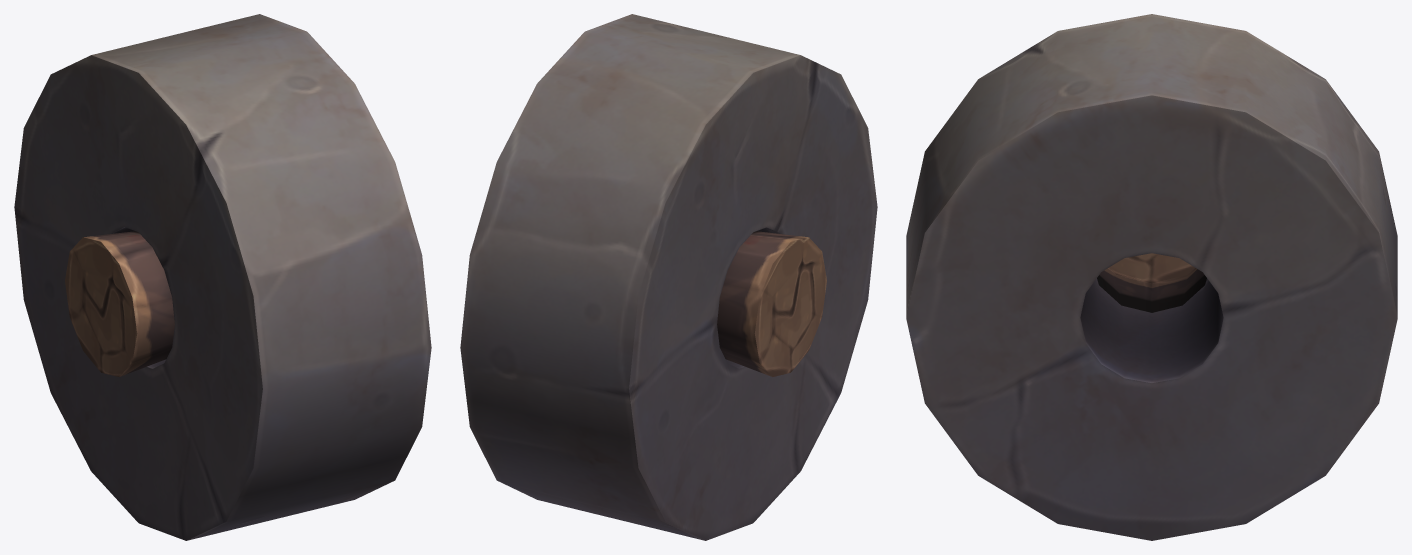
File: wm_wheel_stone.fbx
The picture shows the model from 3 angles, left to right: view 1: azimuth 30°, elevation 25°; view 2: azimuth 150°, elevation 25°; view 3: azimuth 270°, elevation 25°; orthographic projection.
Parts seen in each view (by area): view 1: wm_wheel_stone; view 2: wm_wheel_stone; view 3: wm_wheel_stone.
Part boxes in pixels (<box>): wm_wheel_stone: <box>14,14,431,540</box>; wm_wheel_stone: <box>460,14,877,540</box>; wm_wheel_stone: <box>906,14,1397,540</box>.
Bounding box in the file's own units: 0.3875 × 0.8087 × 0.8087.
